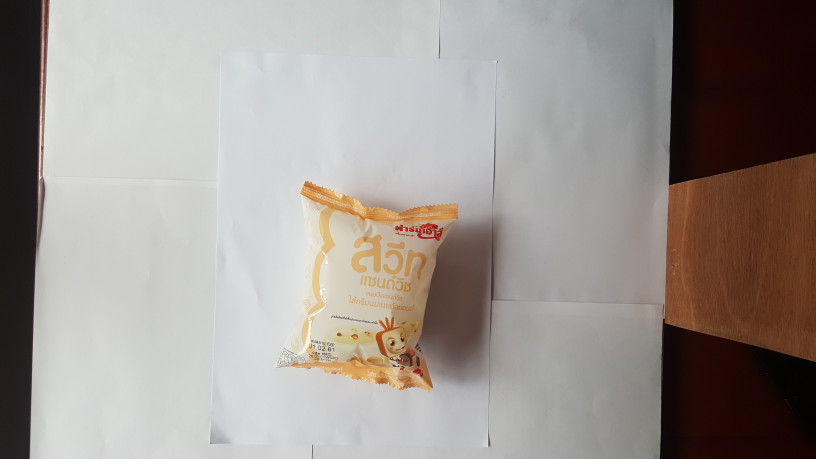farmhouse-sweetsandwich-almond: (265, 179, 462, 393)
